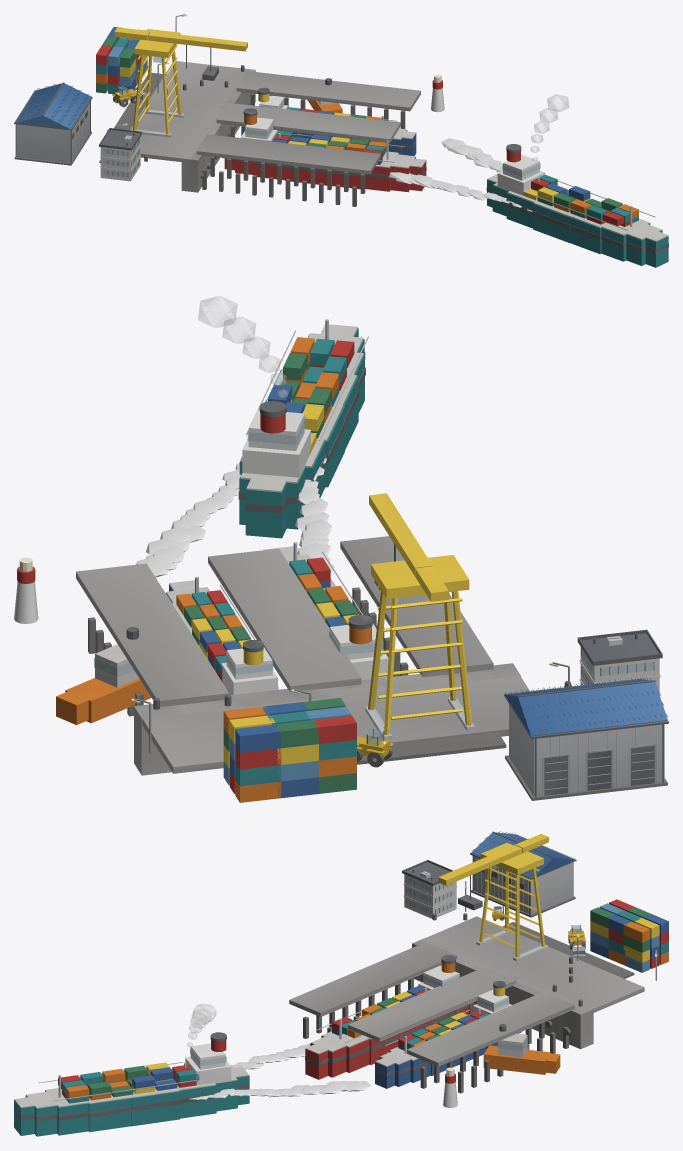
Rendered from Port_P3.fbx.
3 renders of one model, top to bottom at view 1: azimuth 30°, elevation 25°; view 2: azimuth 150°, elevation 25°; view 3: azimuth 270°, elevation 25°, orthographic. The views are drawn at different scales.
Parts seen in each view (by area): view 1: Port.ShipOut, Port.Apron, Port.Pier0, Port.Ship0, Port.Shed, Port.Pier2, Port.Crane0, Port.Pier1, Port.Containers, Port.Control, Port.Wake, Port.QuayWall (+4 smaller); view 2: Port.ShipOut, Port.Shed, Port.Apron, Port.Containers, Port.Pier2, Port.Pier1, Port.Crane0, Port.Pier0, Port.Ship1, Port.Wake, Port.Ship0, Port.QuayWall (+5 smaller); view 3: Port.ShipOut, Port.Apron, Port.Pier2, Port.Ship0, Port.Pier0, Port.Crane0, Port.Shed, Port.Containers, Port.Pier1, Port.Ship1, Port.QuayWall, Port.Control (+5 smaller).
Boxes of the visible parts, <box> form: Port.ShipOut: <box>486,144,668,267</box>; Port.Apron: <box>114,61,246,161</box>; Port.Pier0: <box>196,134,380,206</box>; Port.Ship0: <box>224,108,426,192</box>; Port.Shed: <box>14,82,92,165</box>; Port.Pier2: <box>236,71,420,128</box>; Port.Crane0: <box>114,27,247,137</box>; Port.Pier1: <box>216,102,400,158</box>; Port.Containers: <box>96,27,147,94</box>; Port.Control: <box>99,128,142,181</box>; Port.Wake: <box>388,138,532,211</box>; Port.QuayWall: <box>181,68,255,192</box>; Port.ShipOut: <box>238,319,368,538</box>; Port.Shed: <box>504,676,668,800</box>; Port.Apron: <box>140,670,529,773</box>; Port.Containers: <box>223,697,356,802</box>; Port.Pier2: <box>76,563,228,716</box>; Port.Pier1: <box>208,548,361,692</box>; Port.Crane0: <box>365,493,474,740</box>; Port.Pier0: <box>340,536,493,677</box>; Port.Ship1: <box>165,576,278,694</box>; Port.Wake: <box>136,458,334,577</box>; Port.Ship0: <box>264,542,388,680</box>; Port.QuayWall: <box>134,663,520,775</box>; Port.ShipOut: <box>14,1032,249,1136</box>; Port.Apron: <box>420,916,644,1012</box>; Port.Pier2: <box>407,992,574,1093</box>; Port.Ship0: <box>305,955,474,1079</box>; Port.Pier0: <box>289,942,457,1038</box>; Port.Crane0: <box>438,834,548,961</box>; Port.Shed: <box>470,831,576,917</box>; Port.Containers: <box>590,899,668,972</box>; Port.Pier1: <box>348,967,515,1053</box>; Port.Ship1: <box>375,981,521,1088</box>; Port.QuayWall: <box>412,938,593,1049</box>; Port.Control: <box>402,860,457,918</box>.
Bounding box in the file's own units: 14245 × 4118 × 17636.
